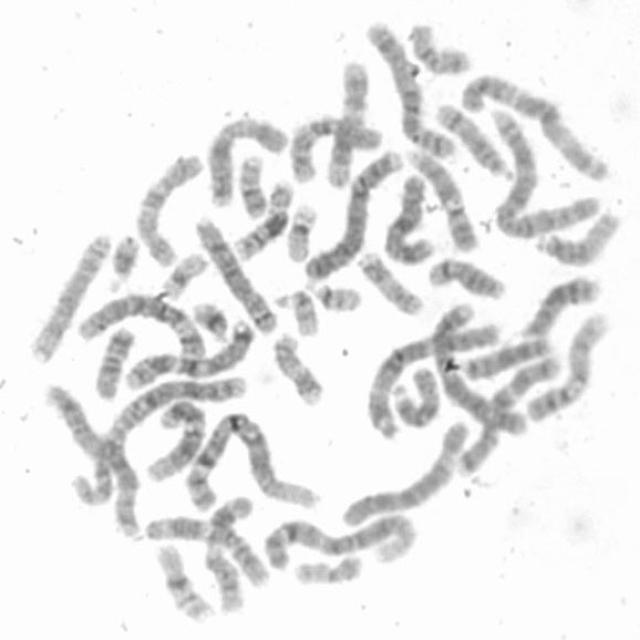A1: (180, 405, 324, 514), (258, 507, 422, 574)
A2: (64, 368, 252, 507), (486, 102, 605, 241)
A3: (454, 65, 612, 184), (361, 316, 505, 440)
B4: (299, 143, 405, 284), (426, 296, 528, 439)
B5: (39, 378, 146, 542), (362, 13, 460, 162)
C10: (131, 146, 207, 269), (285, 110, 384, 185)
C11: (140, 509, 272, 589), (200, 490, 255, 616)
C12: (320, 54, 371, 190), (141, 395, 208, 484)
C6: (335, 413, 473, 529), (72, 286, 208, 363)
C7: (450, 348, 566, 480), (116, 314, 257, 390)
C8: (22, 227, 113, 364), (188, 209, 280, 337)
C9: (520, 304, 614, 426), (401, 143, 479, 253)
D13: (516, 270, 603, 340), (456, 330, 554, 382)
D14: (431, 96, 514, 182), (423, 252, 509, 302)
D15: (527, 204, 623, 268), (386, 361, 443, 431)
E16: (228, 173, 297, 262), (150, 537, 217, 625)
E17: (352, 246, 426, 318), (268, 326, 329, 408)
E18: (404, 18, 474, 76), (90, 320, 138, 401)
F19: (154, 247, 209, 301), (281, 197, 321, 264)
F20: (287, 548, 366, 587), (234, 150, 270, 220)
G21: (102, 227, 142, 293), (187, 295, 233, 342)
G22: (272, 282, 322, 338), (300, 274, 364, 314)
X: (202, 111, 290, 210), (380, 168, 437, 266)
